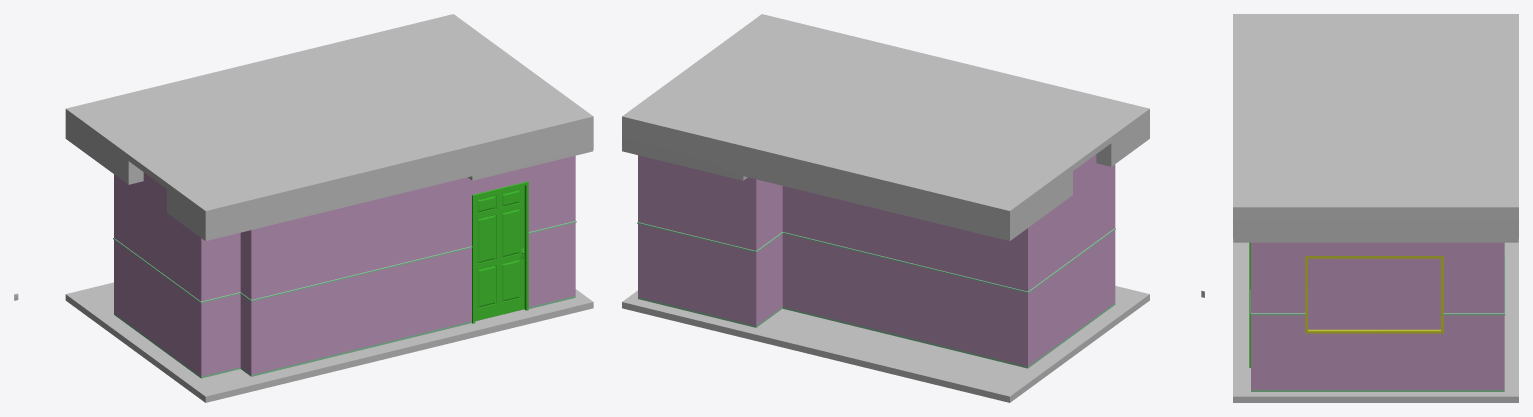
Rendered from FloorPlan9.fbx.
The picture shows the model from 3 angles, left to right: view 1: azimuth 30°, elevation 25°; view 2: azimuth 150°, elevation 25°; view 3: azimuth 270°, elevation 25°; orthographic projection. The views are drawn at different scales.
Parts seen in each view (by area): view 1: Ceiling, StandardWallSize, Floor, StandardDoor1, StandardDoorFrame1; view 2: Ceiling, StandardWallSize, Floor; view 3: Ceiling, StandardWallSize, Window, Floor.
Part boxes in pixels (x1=…): Ceiling: x1=65, y1=14, x2=593, y2=240; StandardWallSize: x1=113, y1=155, x2=576, y2=378; Floor: x1=65, y1=282, x2=593, y2=402; StandardDoor1: x1=475, y1=185, x2=524, y2=320; StandardDoorFrame1: x1=472, y1=181, x2=528, y2=323; Ceiling: x1=622, y1=14, x2=1149, y2=240; StandardWallSize: x1=637, y1=154, x2=1115, y2=368; Floor: x1=622, y1=286, x2=1149, y2=402; Ceiling: x1=1233, y1=14, x2=1518, y2=242; StandardWallSize: x1=1250, y1=242, x2=1505, y2=391; Window: x1=1305, y1=256, x2=1443, y2=333; Floor: x1=1233, y1=239, x2=1518, y2=402.
Bounding box in the file's own units: 843 × 302 × 400.
